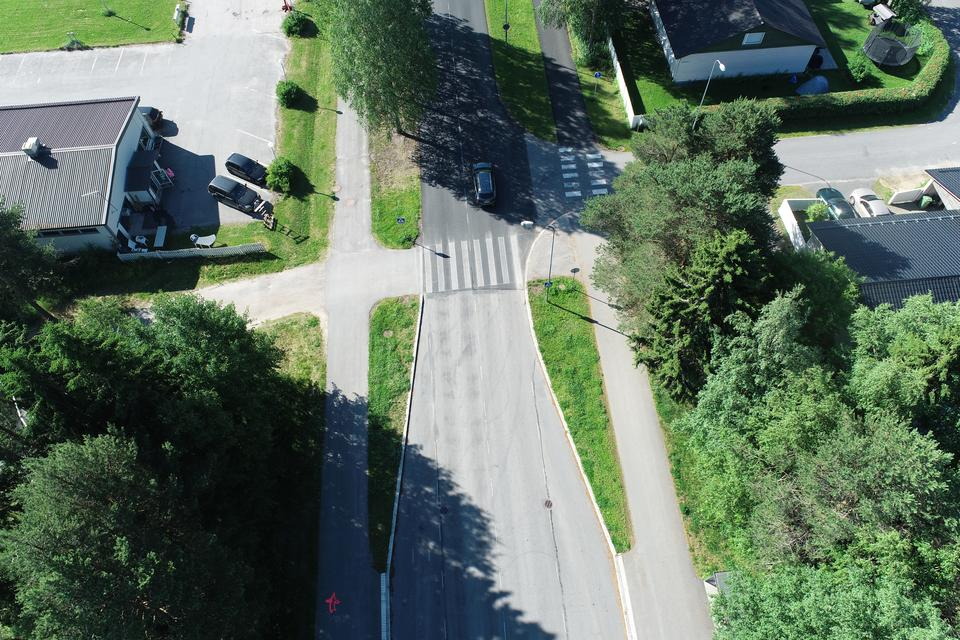intersection: (312, 118, 663, 321)
